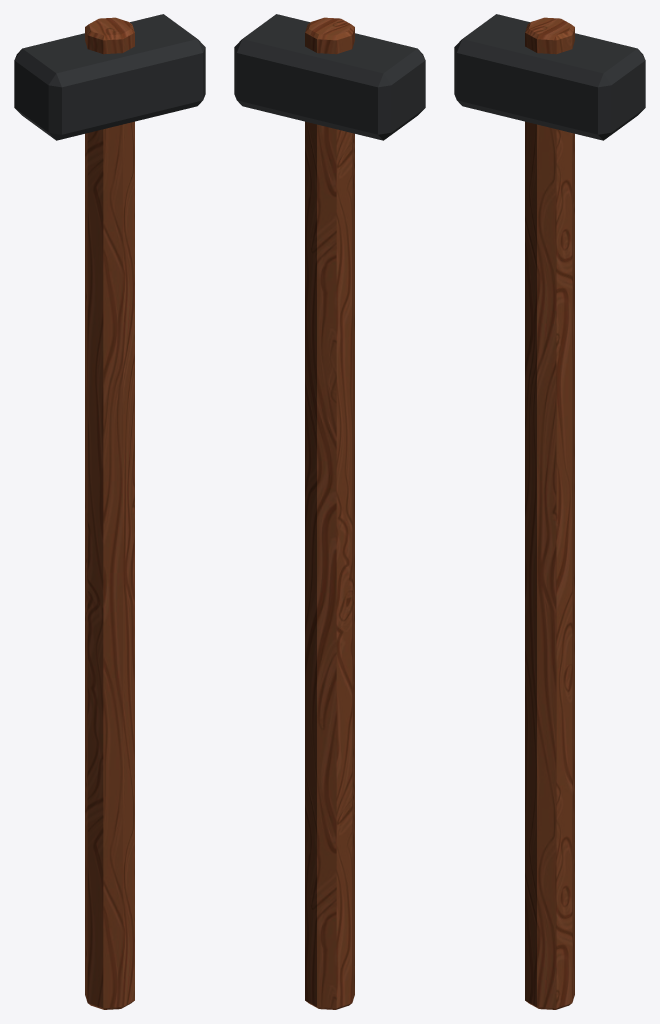
File: FRM0510019.fbx
3 renders of one model, left to right at view 1: azimuth 30°, elevation 25°; view 2: azimuth 150°, elevation 25°; view 3: azimuth 330°, elevation 25°, orthographic.
Parts seen in each view (by area): view 1: smFRM0510019; view 2: smFRM0510019; view 3: smFRM0510019.
Part boxes in pixels (x1,y1,x2,y2): smFRM0510019: (14, 14, 205, 1009); smFRM0510019: (234, 14, 425, 1009); smFRM0510019: (454, 14, 645, 1009).
Size of the model in its own units: 14.28 by 84.67 by 7.1.
Materials: 1 (1 with a texture image).
